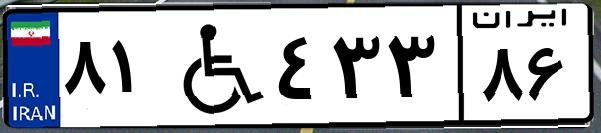1: (110, 28, 158, 98)
3: (385, 28, 445, 110), (330, 28, 385, 110)
4: (270, 28, 330, 110)
6: (525, 38, 570, 115)
8: (57, 26, 110, 100), (475, 38, 525, 113)
ژ (معلولین و جانبازان): (158, 12, 270, 120)
